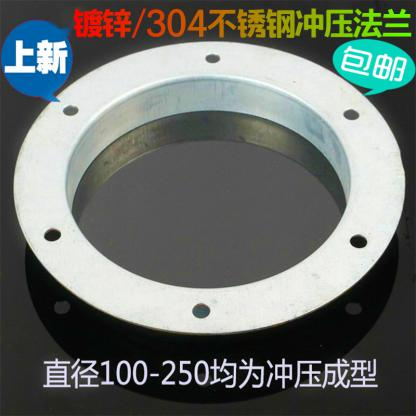FOD: (7, 36, 407, 342)
